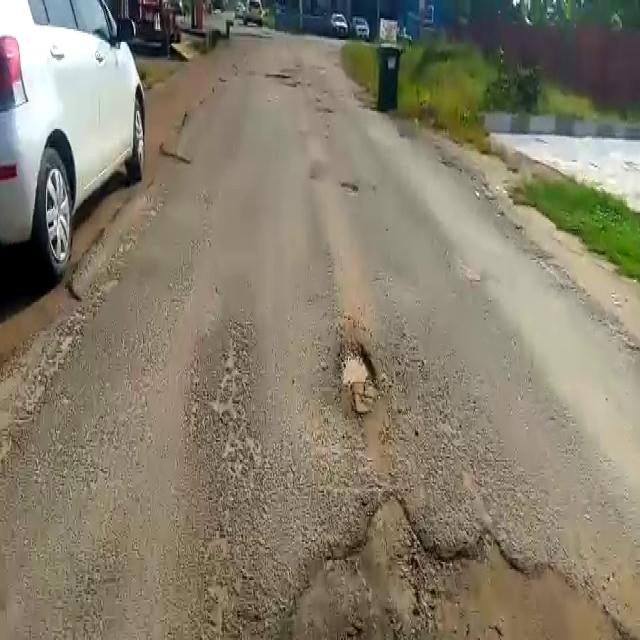Pothole: (279, 493, 640, 640), (338, 335, 380, 413)
